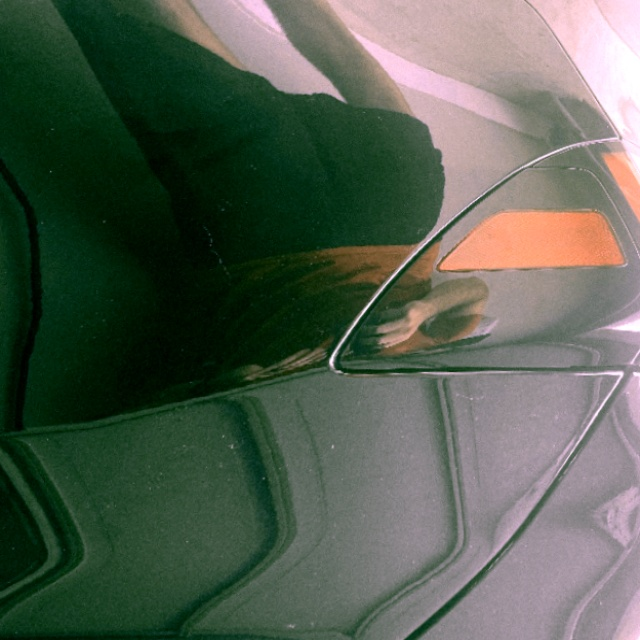reflector: (431, 202, 629, 278)
